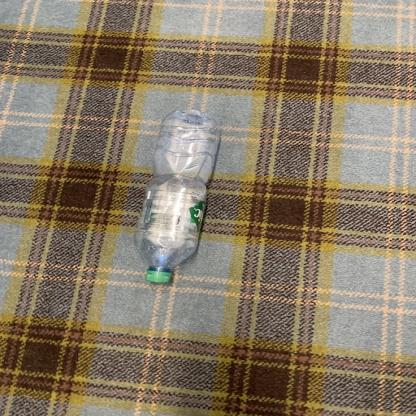trash: (133, 109, 225, 285)
